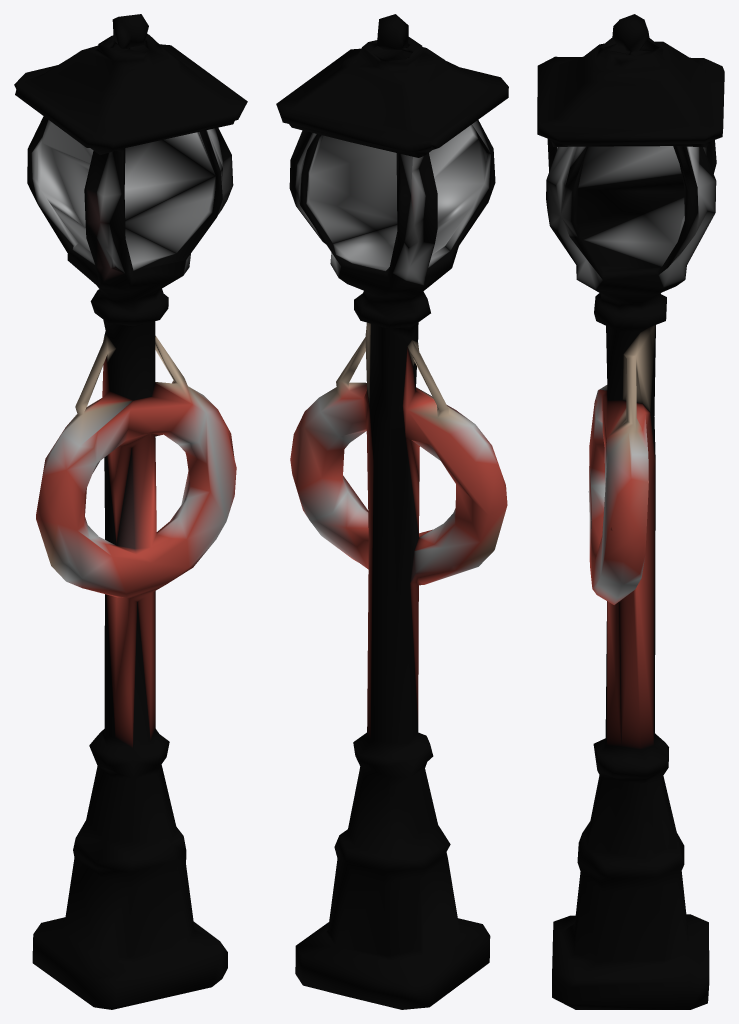
File: gen3d-pier-lamp-lod1.glb
3 renders of one model, left to right at view 1: azimuth 30°, elevation 25°; view 2: azimuth 150°, elevation 25°; view 3: azimuth 270°, elevation 25°, orthographic.
Visible parts, largest first — view 1: part_0; view 2: part_0; view 3: part_0.
Part boxes in pixels (x1,y1,x2,y2): part_0: [14, 14, 247, 1009]; part_0: [276, 14, 508, 1009]; part_0: [537, 14, 724, 1009].
Size of the model in its own units: 0.2277 by 0.9974 by 0.1766.
